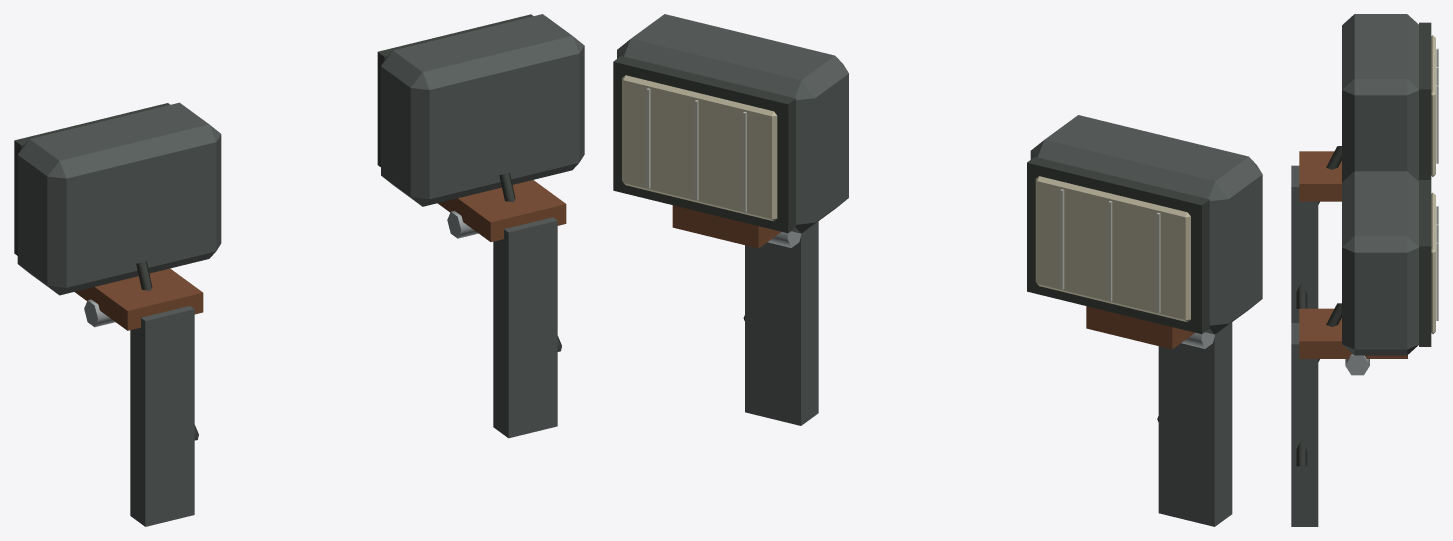
Rendered from vaz_2106_upgrade_headlights.glb.
3 renders of one model, left to right at view 1: azimuth 30°, elevation 25°; view 2: azimuth 150°, elevation 25°; view 3: azimuth 270°, elevation 25°, orthographic. The views are drawn at different scales.
Parts seen in each view (by area): view 1: vaz_2106_upgrade_headlights; view 2: vaz_2106_upgrade_headlights; view 3: vaz_2106_upgrade_headlights.
Boxes of the visible parts, x1,y1,x2,y2 form: vaz_2106_upgrade_headlights: (14, 14, 584, 526); vaz_2106_upgrade_headlights: (613, 14, 1262, 526); vaz_2106_upgrade_headlights: (1291, 14, 1438, 526).
Size of the model in its own units: 0.71 by 0.445 by 0.19.
